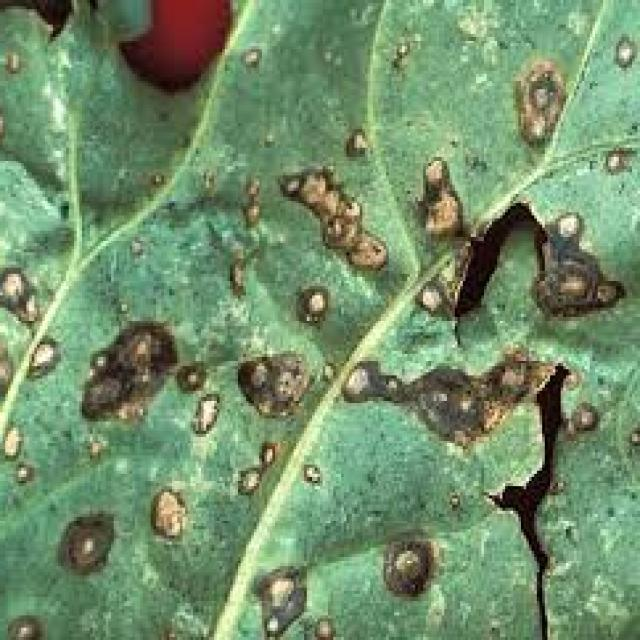bercak_daun: (103, 83, 635, 640)
